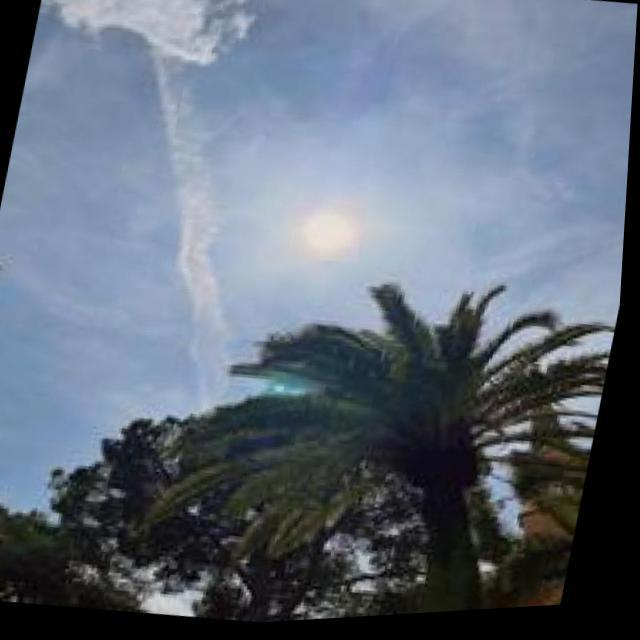sun: (298, 209, 365, 266)
